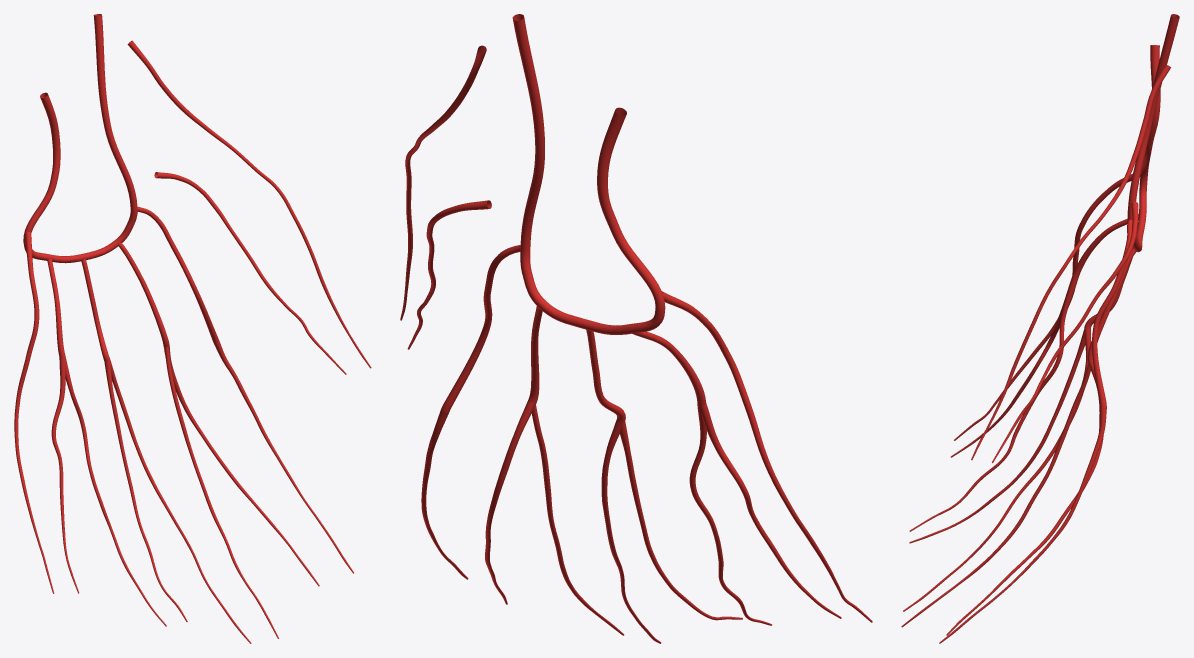
Rendered from circulatorio-superficial-palmar-arch-l.glb.
3 renders of one model, left to right at view 1: azimuth 30°, elevation 25°; view 2: azimuth 150°, elevation 25°; view 3: azimuth 270°, elevation 25°, orthographic. The views are drawn at different scales.
Parts seen in each view (by area): view 1: Proper palmar digital arteries.l, Superficial palmar arch.l, Common palmar digital arteries.l; view 2: Proper palmar digital arteries.l, Superficial palmar arch.l, Common palmar digital arteries.l; view 3: Proper palmar digital arteries.l, Superficial palmar arch.l, Common palmar digital arteries.l.
Part boxes in pixels (bbox=[...]): Proper palmar digital arteries.l: bbox=[14, 40, 371, 643]; Superficial palmar arch.l: bbox=[23, 14, 137, 263]; Common palmar digital arteries.l: bbox=[47, 206, 219, 361]; Proper palmar digital arteries.l: bbox=[400, 45, 872, 643]; Superficial palmar arch.l: bbox=[512, 14, 665, 334]; Common palmar digital arteries.l: bbox=[441, 245, 705, 423]; Proper palmar digital arteries.l: bbox=[901, 64, 1170, 643]; Superficial palmar arch.l: bbox=[1127, 14, 1179, 252]; Common palmar digital arteries.l: bbox=[1071, 214, 1138, 407].
Size of the model in its own units: 0.107 by 0.1705 by 0.0736.
